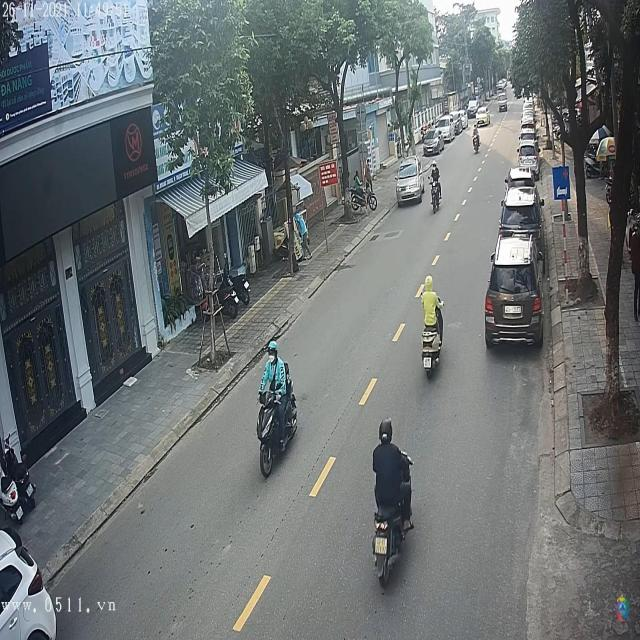car: (485, 239, 543, 348), (499, 187, 544, 238), (395, 160, 426, 207), (424, 126, 449, 154), (475, 110, 491, 128)
motorcycle: (370, 499, 415, 592), (254, 390, 299, 482), (420, 314, 445, 380), (430, 175, 442, 215), (473, 132, 481, 155)
